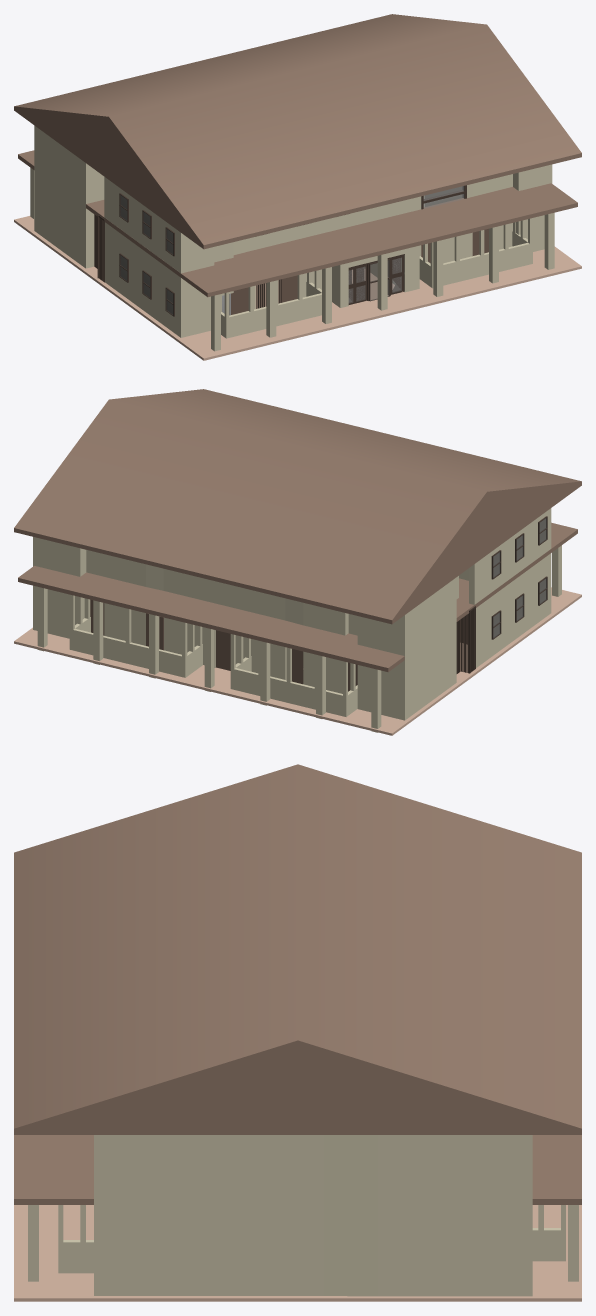
File: House.fbx
The picture shows the model from 3 angles, top to bottom: view 1: azimuth 30°, elevation 25°; view 2: azimuth 150°, elevation 25°; view 3: azimuth 270°, elevation 25°; orthographic projection. The views are drawn at different scales.
Parts seen in each view (by area): view 1: pCube32, polySurface80, pCube33, pCube31, balcony124, balcony, pasted__polySurface176, pCube35, pCube37, pCube38, pCube40, pCube34 (+4 smaller); view 2: pCube32, polySurface80, pCube33, pCube31, balcony124124124124, balcony124124124, pCube36, pCube39, pCube40, pCube37, pCube41, pCube38 (+4 smaller); view 3: pCube32, polySurface80, pCube31, pCube33, pCube40 (×2), balcony124, balcony124124124124.
Boxes of the visible parts, x1,y1,x2,y2 form: pCube32: (14, 14, 581, 249); polySurface80: (34, 125, 552, 337); pCube33: (18, 150, 577, 297); pCube31: (14, 216, 581, 360); balcony124: (419, 218, 532, 288); balcony: (221, 270, 321, 338); pasted__polySurface176: (348, 254, 404, 304); pCube35: (266, 280, 276, 337); pCube37: (377, 253, 387, 310); pCube38: (433, 240, 443, 296); pCube40: (544, 212, 554, 269); pCube34: (211, 294, 220, 351); pCube32: (14, 389, 581, 624); polySurface80: (33, 508, 551, 720); pCube33: (18, 522, 577, 672); pCube31: (14, 587, 581, 735); balcony124124124124: (69, 594, 202, 677); balcony124124124: (230, 634, 357, 716); pCube36: (260, 641, 270, 705); pCube39: (93, 600, 103, 664); pCube40: (37, 587, 47, 651); pCube37: (204, 627, 214, 691); pCube41: (371, 668, 381, 732); pCube38: (149, 614, 158, 678); pCube32: (14, 764, 581, 1134); polySurface80: (94, 1135, 532, 1296); pCube31: (14, 1205, 581, 1301); pCube33: (14, 1135, 581, 1204); pCube40 (×2): (28, 1205, 578, 1281); balcony124: (58, 1205, 93, 1273); balcony124124124124: (532, 1205, 565, 1261).
Size of the model in its own units: 40.8 by 18.15 by 35.47.
